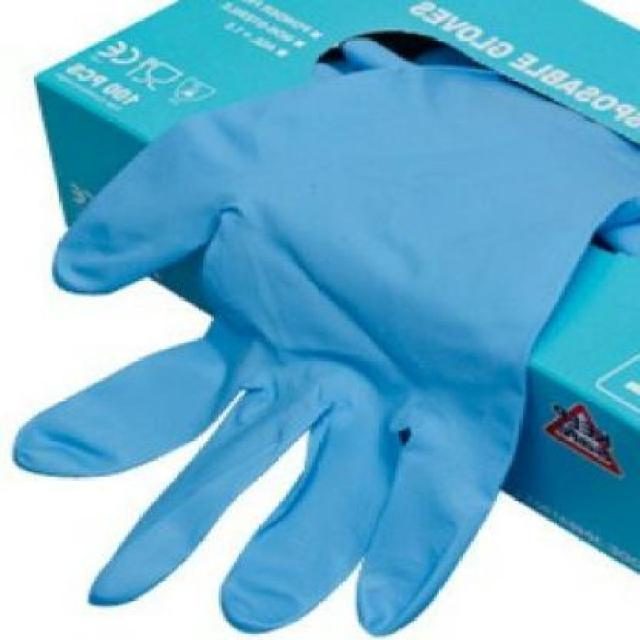gloved_hand: (14, 68, 640, 636)
